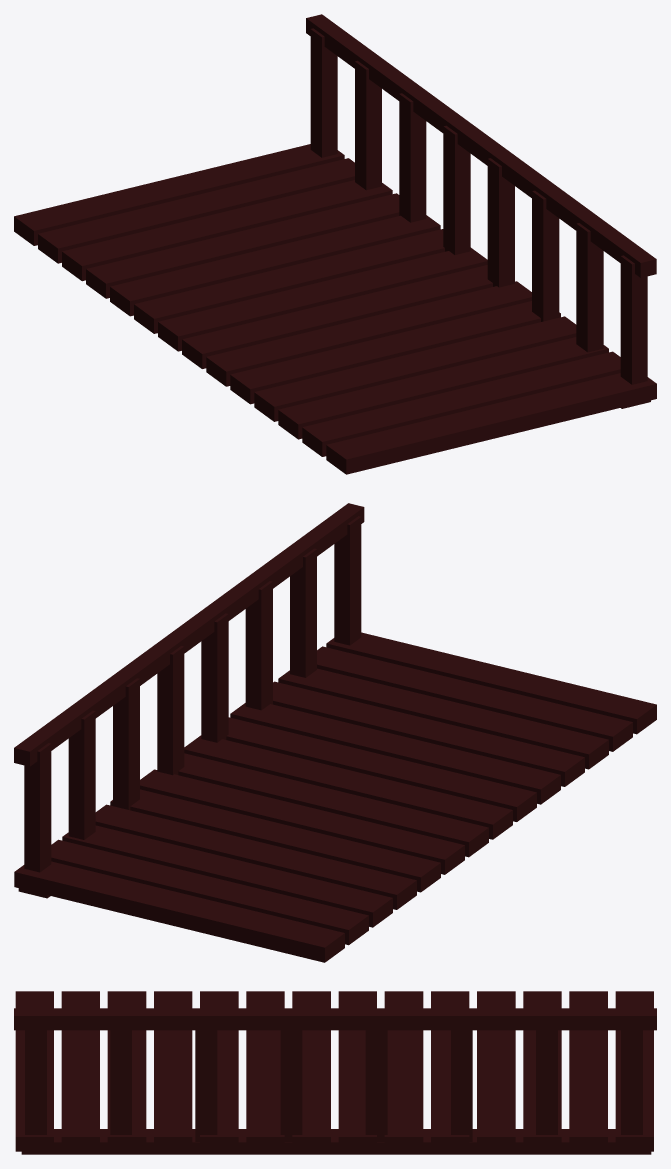
File: Platform With Guide.fbx
3 views of the same model, one above another, from view 1: azimuth 30°, elevation 25°; view 2: azimuth 150°, elevation 25°; view 3: azimuth 270°, elevation 25° (orthographic). The views are drawn at different scales.
Visible parts, largest first — view 1: Cube; view 2: Cube; view 3: Cube.
Boxes of the visible parts, x1,y1,x2,y2 form: Cube: (14, 14, 656, 474); Cube: (14, 503, 656, 962); Cube: (14, 991, 656, 1154).
Size of the model in its own units: 645 by 288 by 1202.
